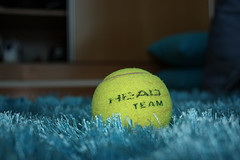tennis ball: (90, 67, 172, 130)
